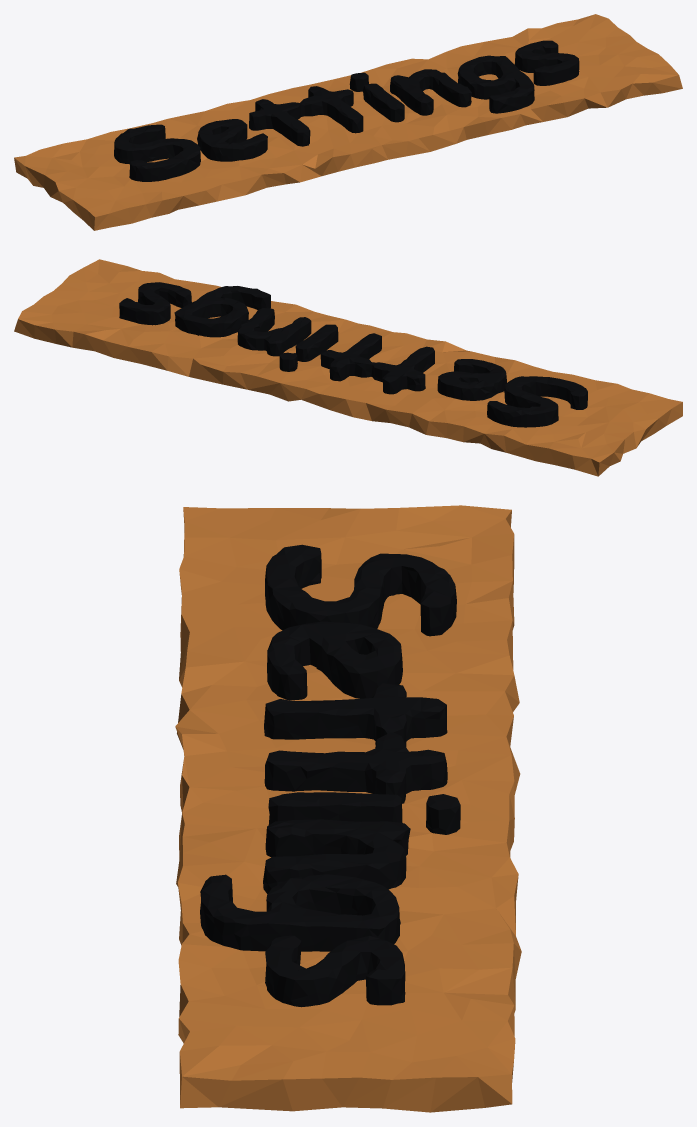
Rendered from settings.fbx.
The picture shows the model from 3 angles, top to bottom: view 1: azimuth 30°, elevation 25°; view 2: azimuth 150°, elevation 25°; view 3: azimuth 270°, elevation 25°; orthographic projection. The views are drawn at different scales.
Parts seen in each view (by area): view 1: Куб.003; view 2: Куб.003; view 3: Куб.003.
Boxes of the visible parts, <box> form: Куб.003: <box>14,14,682,230</box>; Куб.003: <box>14,259,682,476</box>; Куб.003: <box>175,505,521,1112</box>.
Bounding box in the file's own units: 371 × 19.24 × 94.4.
